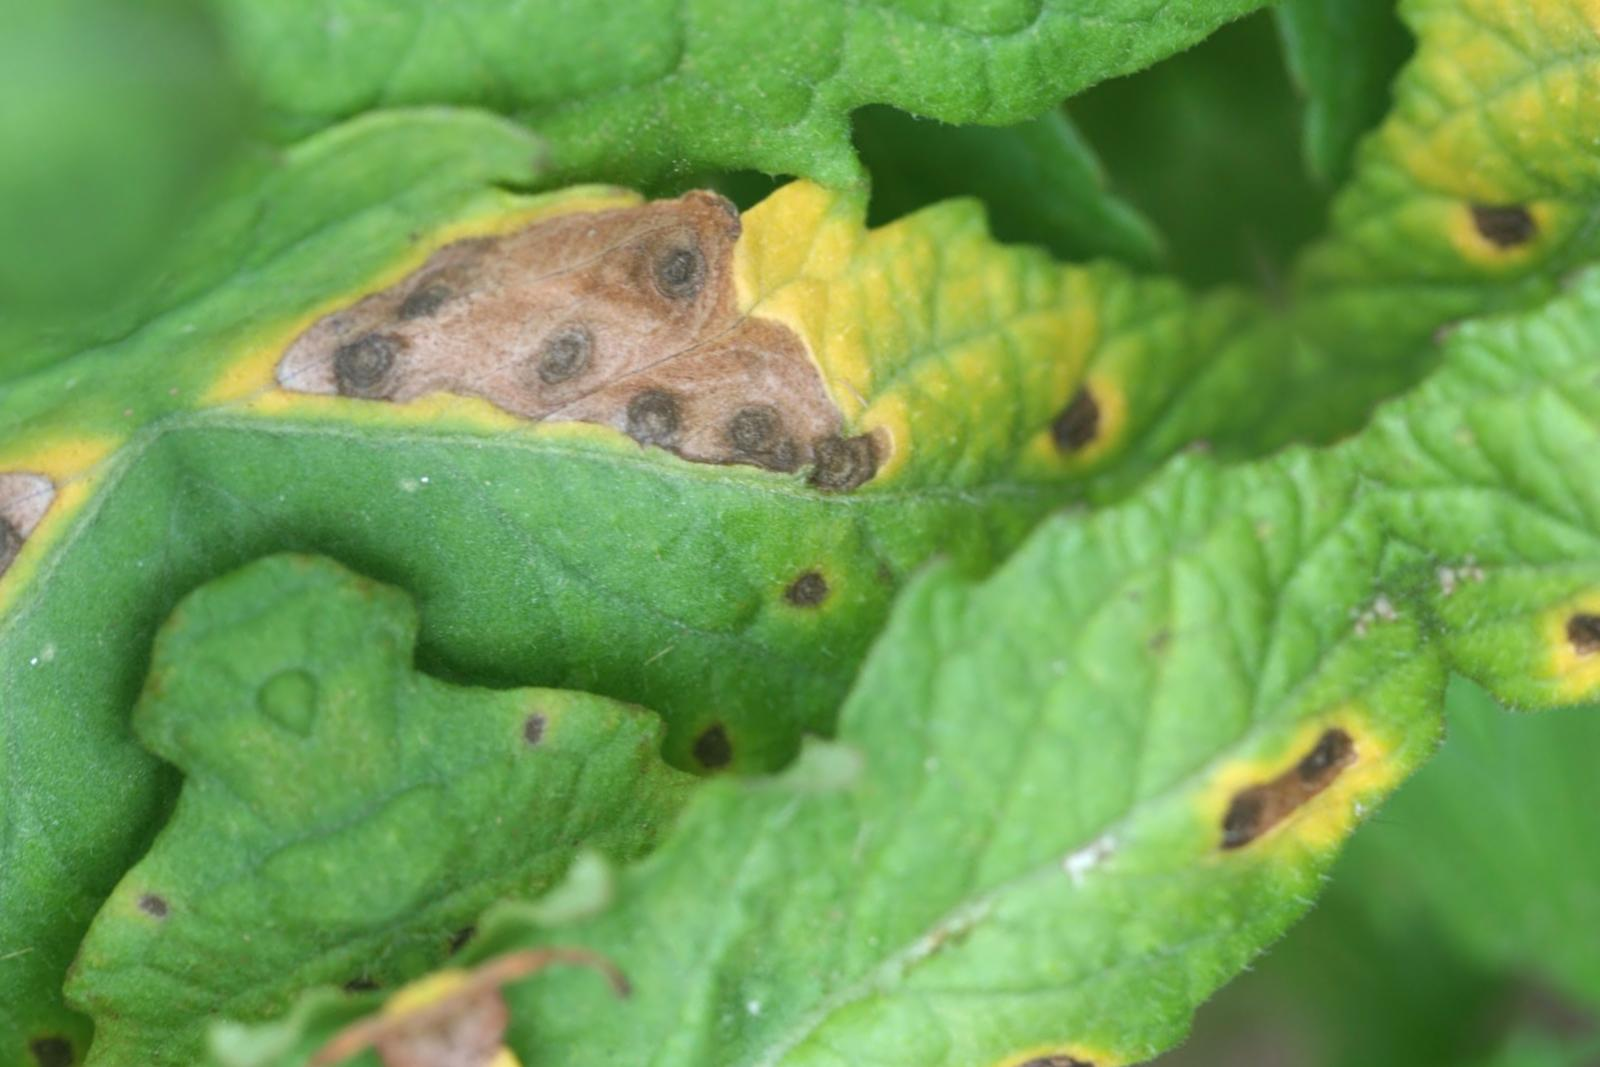Tomato leaf late blight: (70, 0, 1356, 998), (354, 360, 1597, 1067)
